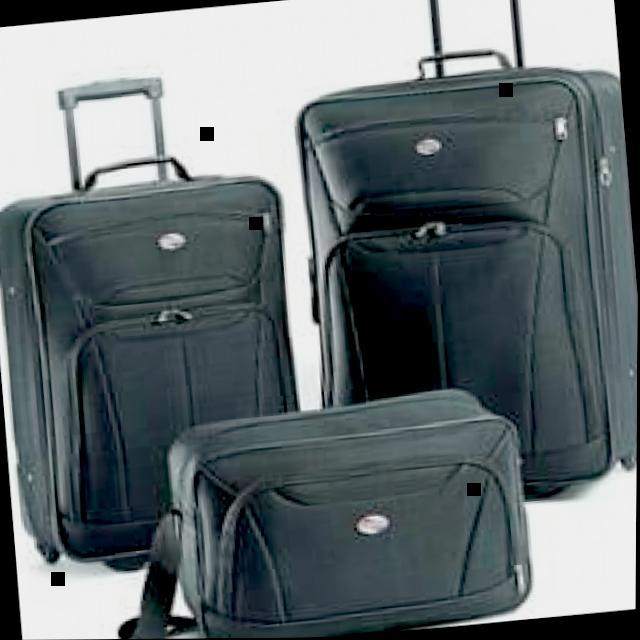luggage: (277, 50, 640, 526), (0, 158, 324, 588), (140, 370, 545, 639)
